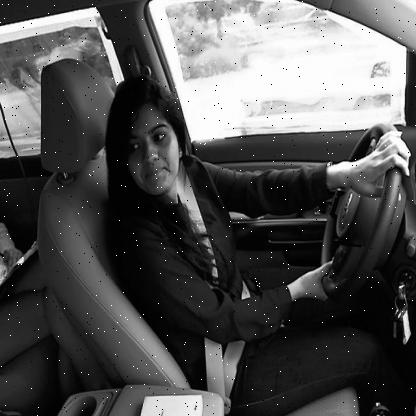seatbelt: (84, 82, 240, 296)
